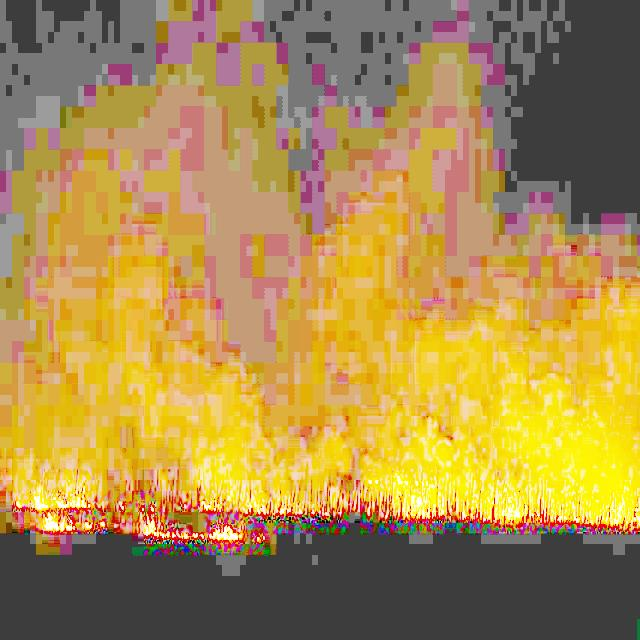api: (26, 483, 113, 551), (141, 506, 247, 551), (390, 467, 446, 527), (487, 482, 529, 527), (245, 497, 316, 521), (609, 490, 632, 532), (199, 493, 225, 518)
asap: (1, 248, 287, 505), (407, 318, 637, 520), (359, 404, 499, 511)
